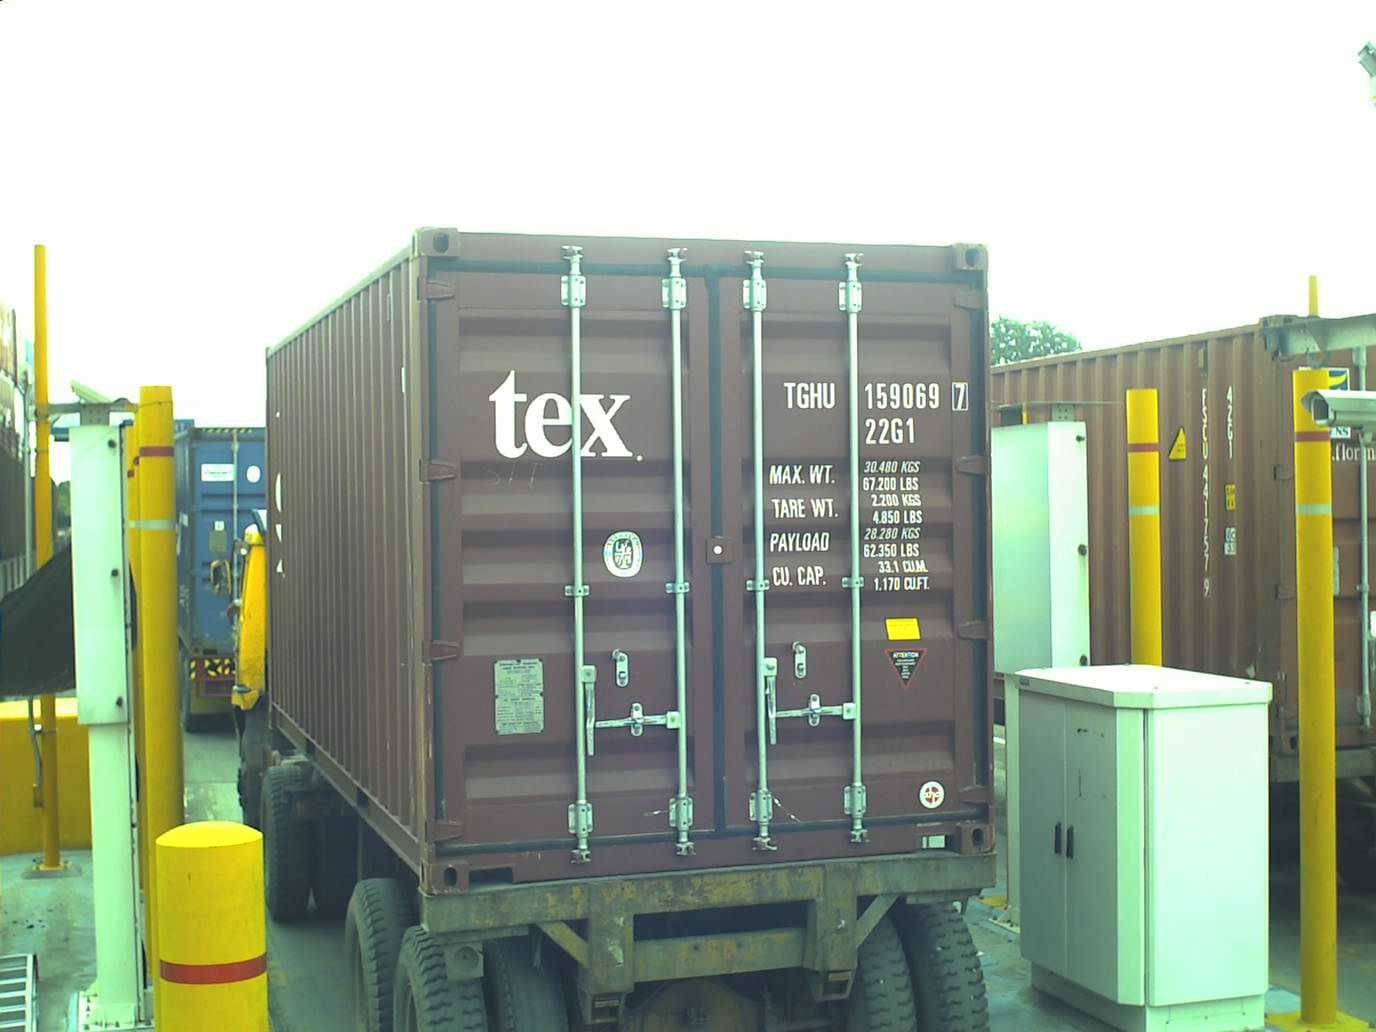container_door: (404, 227, 1002, 856)
